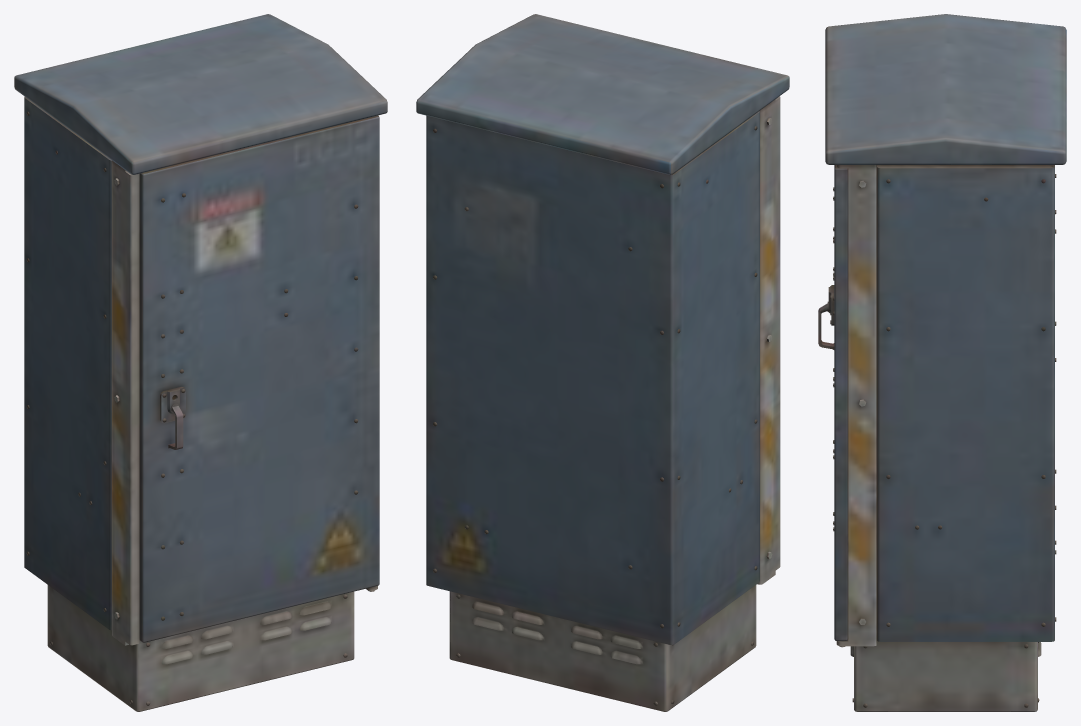
Rendered from utility_box_01.gltf.
3 renders of one model, left to right at view 1: azimuth 30°, elevation 25°; view 2: azimuth 150°, elevation 25°; view 3: azimuth 270°, elevation 25°, orthographic.
Parts seen in each view (by area): view 1: utility_box_01_box; view 2: utility_box_01_box; view 3: utility_box_01_box.
Part boxes in pixels (bbox=[...]): utility_box_01_box: bbox=[14, 14, 387, 711]; utility_box_01_box: bbox=[416, 14, 789, 711]; utility_box_01_box: bbox=[818, 14, 1066, 711].
Bounding box in the file's own units: 0.52 × 1.12 × 0.432.
1 material, 1 textured.
